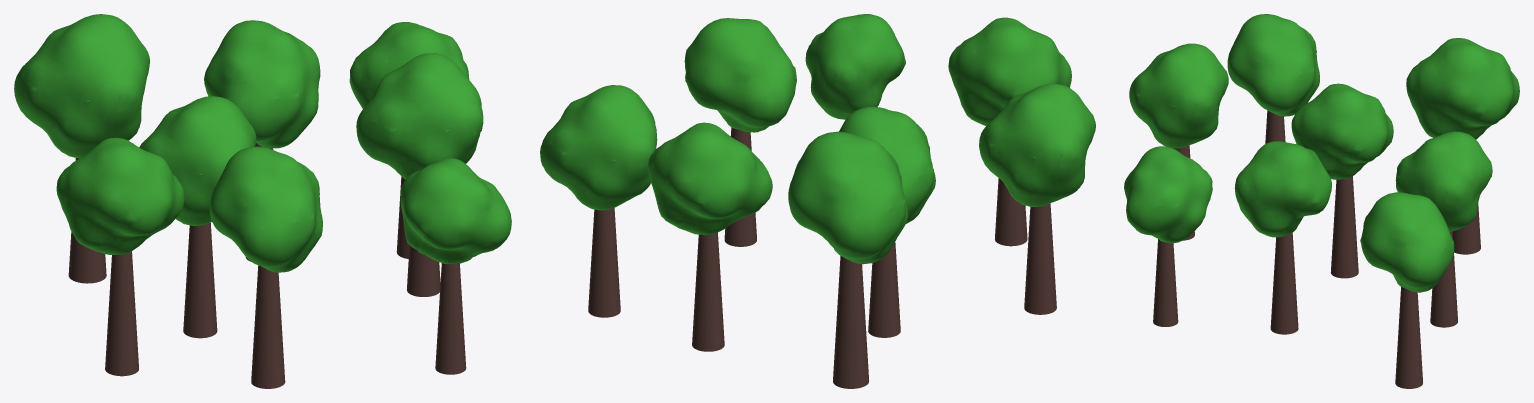
Rendered from applied trees.fbx.
The picture shows the model from 3 angles, left to right: view 1: azimuth 30°, elevation 25°; view 2: azimuth 150°, elevation 25°; view 3: azimuth 270°, elevation 25°; orthographic projection. The views are drawn at different scales.
Visible parts, largest first — view 1: applied trees; view 2: applied trees; view 3: applied trees.
Part boxes in pixels (bbox=[...]): applied trees: bbox=[14, 14, 511, 388]; applied trees: bbox=[540, 14, 1095, 388]; applied trees: bbox=[1124, 14, 1519, 388].
Size of the model in its own units: 68.4 by 37.56 by 59.5.
